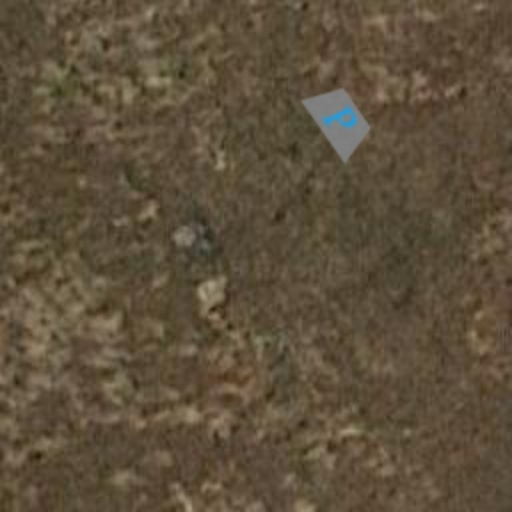trapezoid: (286, 66, 394, 174)
